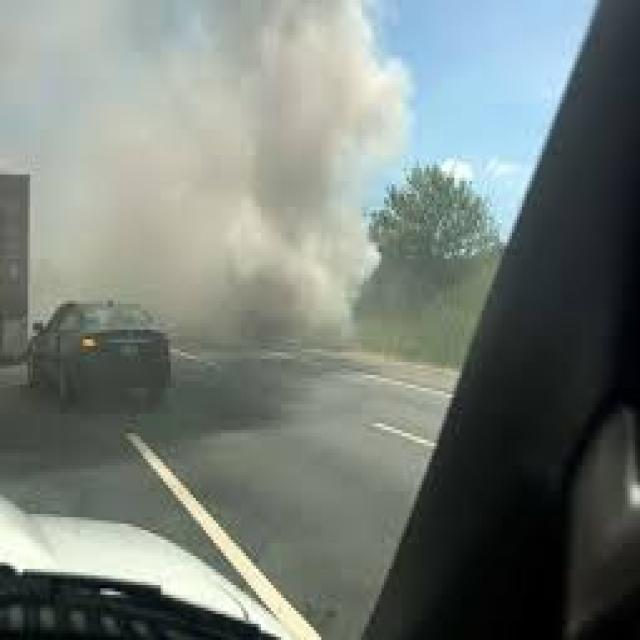Smoke: (0, 0, 417, 346)
